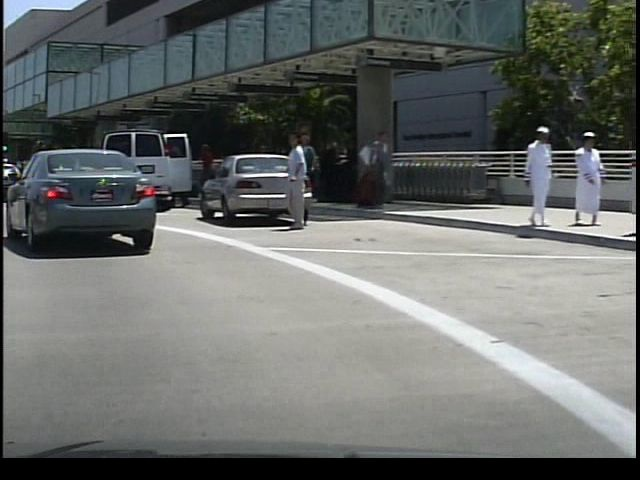person: (512, 123, 551, 232), (274, 127, 311, 233), (564, 128, 602, 226), (358, 126, 390, 213), (192, 139, 215, 204)
